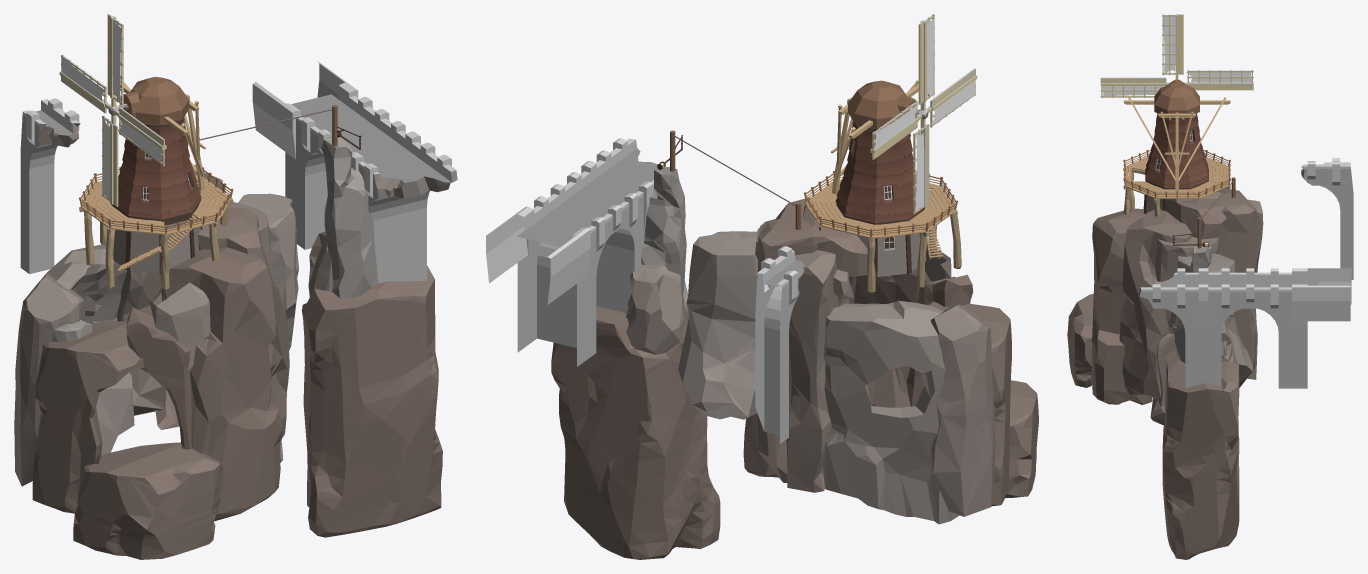
File: Windmill.fbx
3 views of the same model, side by side, from view 1: azimuth 30°, elevation 25°; view 2: azimuth 150°, elevation 25°; view 3: azimuth 270°, elevation 25° (orthographic). The views are drawn at different scales.
Visible parts, largest first — view 1: Cube.073, CastleA.000, Cube.014, Cube.007, Cube.012, CastleA.003, Cube.074, Cylinder.005, Windmill-Base.015, Cylinder.004, Cube.015, Cube.013 (+14 smaller); view 2: Cube.073, CastleA.000, Cylinder.004, Cylinder.016, Cylinder.005, Cube.016, CastleA.003, Windmill-Base.015, Cube.011, Cube.075, Cube.074, Cube.012 (+10 smaller); view 3: CastleA.000, Cube.073, Cube.013, Cube.014, Cube.011, Windmill-Base.015, CastleA.003, Windmill-Sails, Cube.072, Cube.007, Windmill-Base.012, Windmill-Sails-Cloth (+9 smaller).
Part boxes in pixels (left/top/right/bottom): Cube.073: left=301, top=265, right=442, bottom=537; CastleA.000: left=252, top=61, right=457, bottom=283; Cube.014: left=164, top=247, right=282, bottom=521; Cube.007: left=73, top=442, right=223, bottom=559; Cube.012: left=32, top=321, right=144, bottom=513; CastleA.003: left=20, top=98, right=80, bottom=274; Cube.074: left=321, top=136, right=378, bottom=298; Cylinder.005: left=14, top=274, right=85, bottom=486; Windmill-Base.015: left=113, top=117, right=201, bottom=219; Cylinder.004: left=43, top=244, right=134, bottom=455; Cube.015: left=126, top=307, right=191, bottom=449; Cube.013: left=198, top=207, right=289, bottom=440; Cube.073: left=551, top=306, right=720, bottom=559; CastleA.000: left=486, top=138, right=657, bottom=366; Cylinder.004: left=823, top=300, right=959, bottom=524; Cylinder.016: left=678, top=231, right=757, bottom=419; Cylinder.005: left=929, top=304, right=995, bottom=516; Cube.016: left=786, top=250, right=838, bottom=492; CastleA.003: left=755, top=246, right=804, bottom=443; Windmill-Base.015: left=835, top=121, right=923, bottom=223; Cube.011: left=757, top=197, right=867, bottom=482; Cube.075: left=626, top=264, right=685, bottom=354; Cube.074: left=641, top=167, right=687, bottom=309; Cube.012: left=926, top=301, right=1011, bottom=506; CastleA.000: left=1138, top=268, right=1351, bottom=388; Cube.073: left=1162, top=348, right=1239, bottom=559; Cube.013: left=1119, top=209, right=1191, bottom=398; Cube.014: left=1092, top=208, right=1152, bottom=404; Cube.011: left=1165, top=181, right=1258, bottom=387; Windmill-Base.015: left=1145, top=113, right=1208, bottom=187; CastleA.003: left=1301, top=158, right=1353, bottom=279; Windmill-Sails: left=1100, top=15, right=1253, bottom=97; Cube.072: left=1150, top=236, right=1219, bottom=425; Cube.007: left=1067, top=294, right=1093, bottom=387; Windmill-Base.012: left=1124, top=156, right=1228, bottom=198; Windmill-Sails-Cloth: left=1102, top=16, right=1251, bottom=95.
Bounding box in the file's own units: 66.72 × 88.26 × 53.71.
3 materials, 1 textured.
